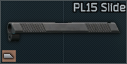PL-15 pistol slide: (0, 0, 127, 64)
